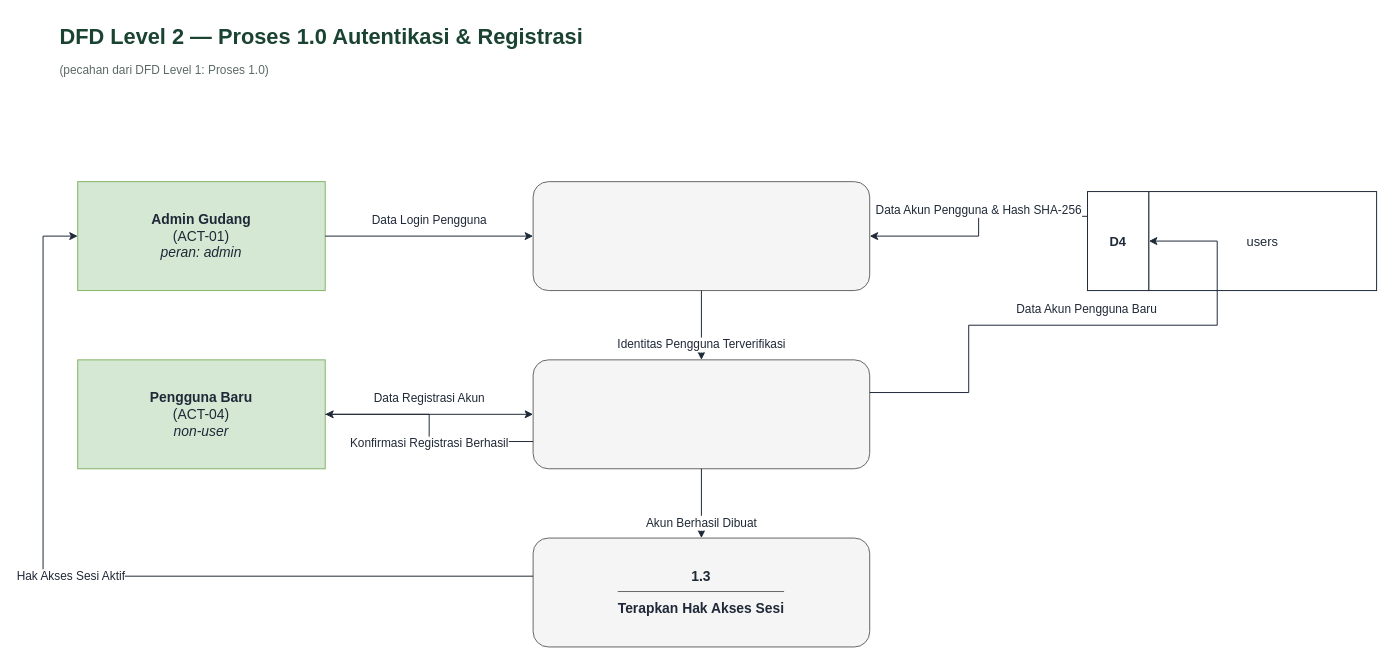
Some shapes in this 1394 by 664 pixel diagram are drawn without their labels. The centre of each missing label's shape, as x and y in pixels:
1.1 Verifikasi Identitas Pengguna: the point at 701,236
1.2 Buat Akun Pengguna Baru: the point at 701,414
